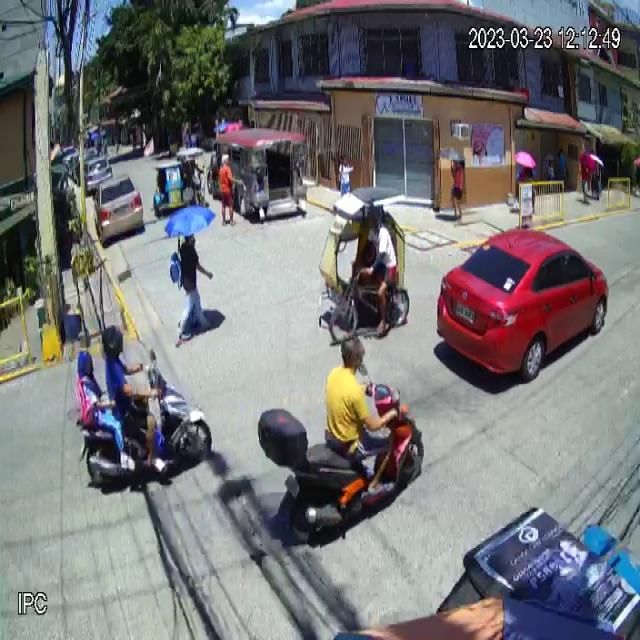Car: (436, 222, 612, 390)
Jeep: (206, 127, 307, 225)
Motorcycle: (256, 362, 426, 547)
Tricycle: (152, 144, 209, 217)
